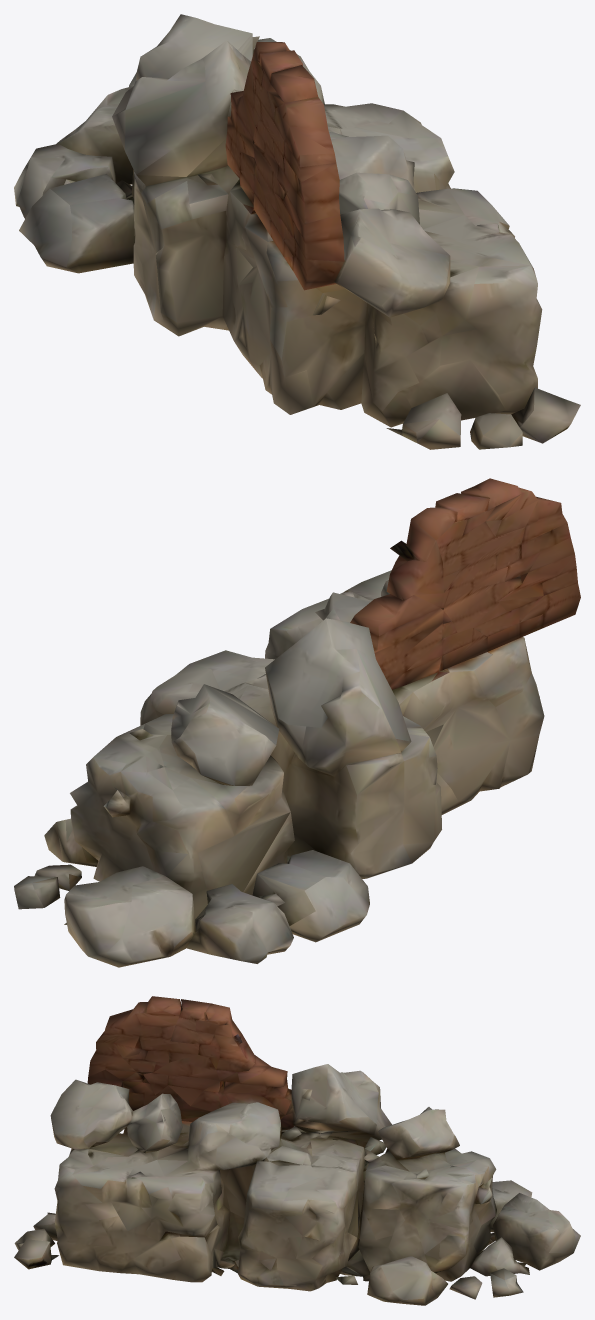
The model's file is ch5-damaged-masonry.glb.
3 renders of one model, top to bottom at view 1: azimuth 30°, elevation 25°; view 2: azimuth 150°, elevation 25°; view 3: azimuth 270°, elevation 25°, orthographic. The views are drawn at different scales.
Parts seen in each view (by area): view 1: tripo_node_5fa86617-35d7-42ae-aea7-bdc7dc8fe577; view 2: tripo_node_5fa86617-35d7-42ae-aea7-bdc7dc8fe577; view 3: tripo_node_5fa86617-35d7-42ae-aea7-bdc7dc8fe577.
Part boxes in pixels (x1,y1,x2,y2): tripo_node_5fa86617-35d7-42ae-aea7-bdc7dc8fe577: [14, 14, 580, 449]; tripo_node_5fa86617-35d7-42ae-aea7-bdc7dc8fe577: [14, 478, 580, 967]; tripo_node_5fa86617-35d7-42ae-aea7-bdc7dc8fe577: [14, 996, 580, 1305].
Size of the model in its own units: 1.48 by 1.3 by 3.14.
1 material, 1 textured.
